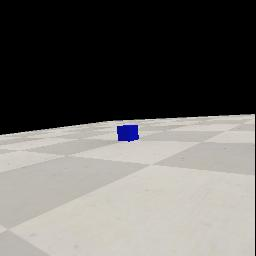box: (117, 125, 139, 142)
